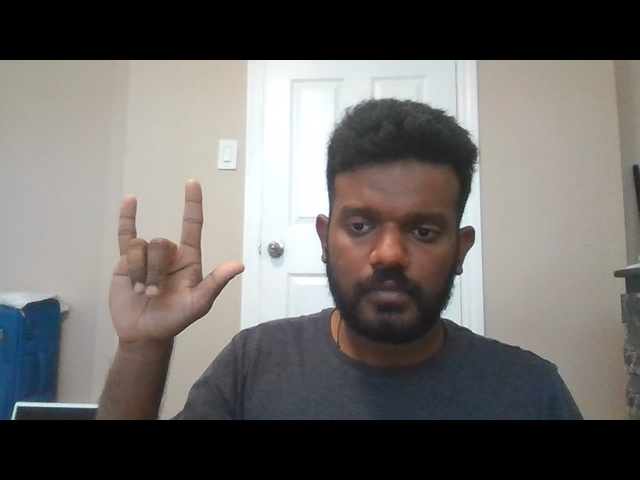iloveyou: (102, 170, 248, 347)
